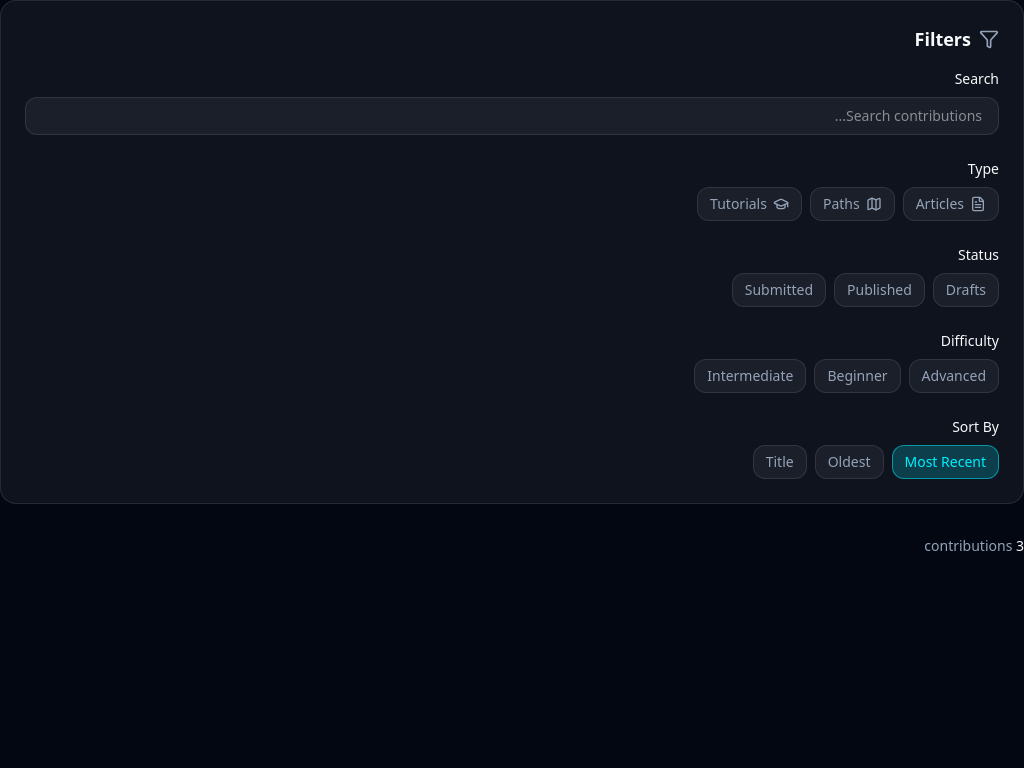
it: ContributionList › filters by type
# Click article filter button
Click the button "Articles" at (951, 204), box [903, 187, 999, 221]
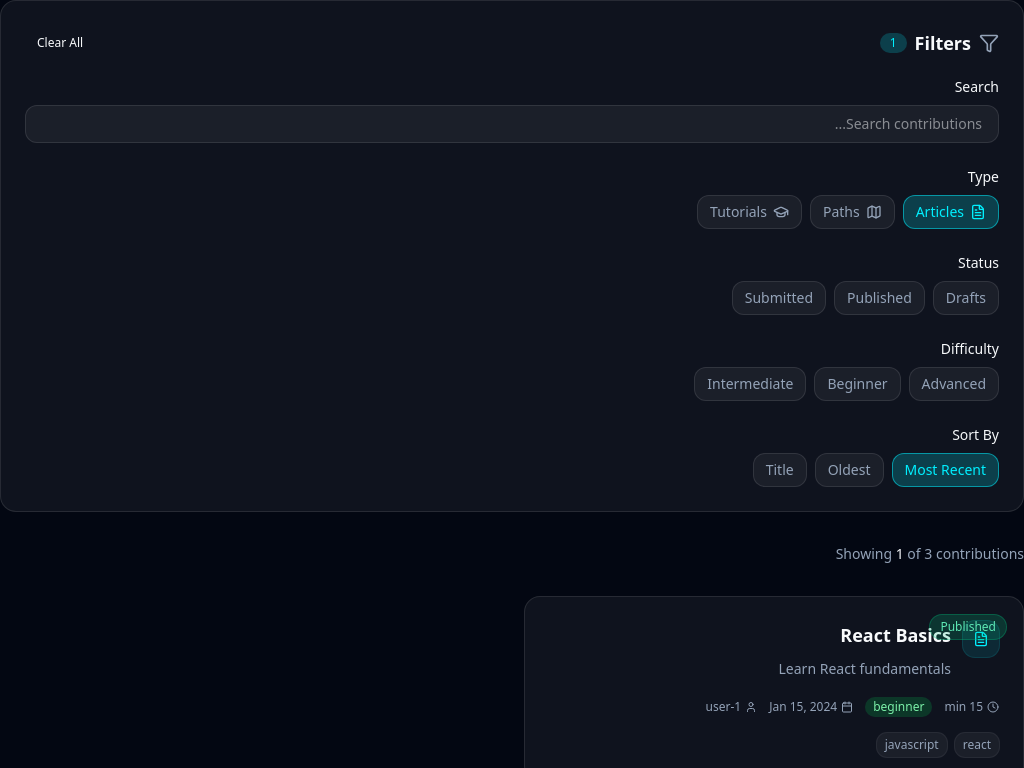
Result: the heading "React Basics" is shown at [840, 623, 951, 647]
